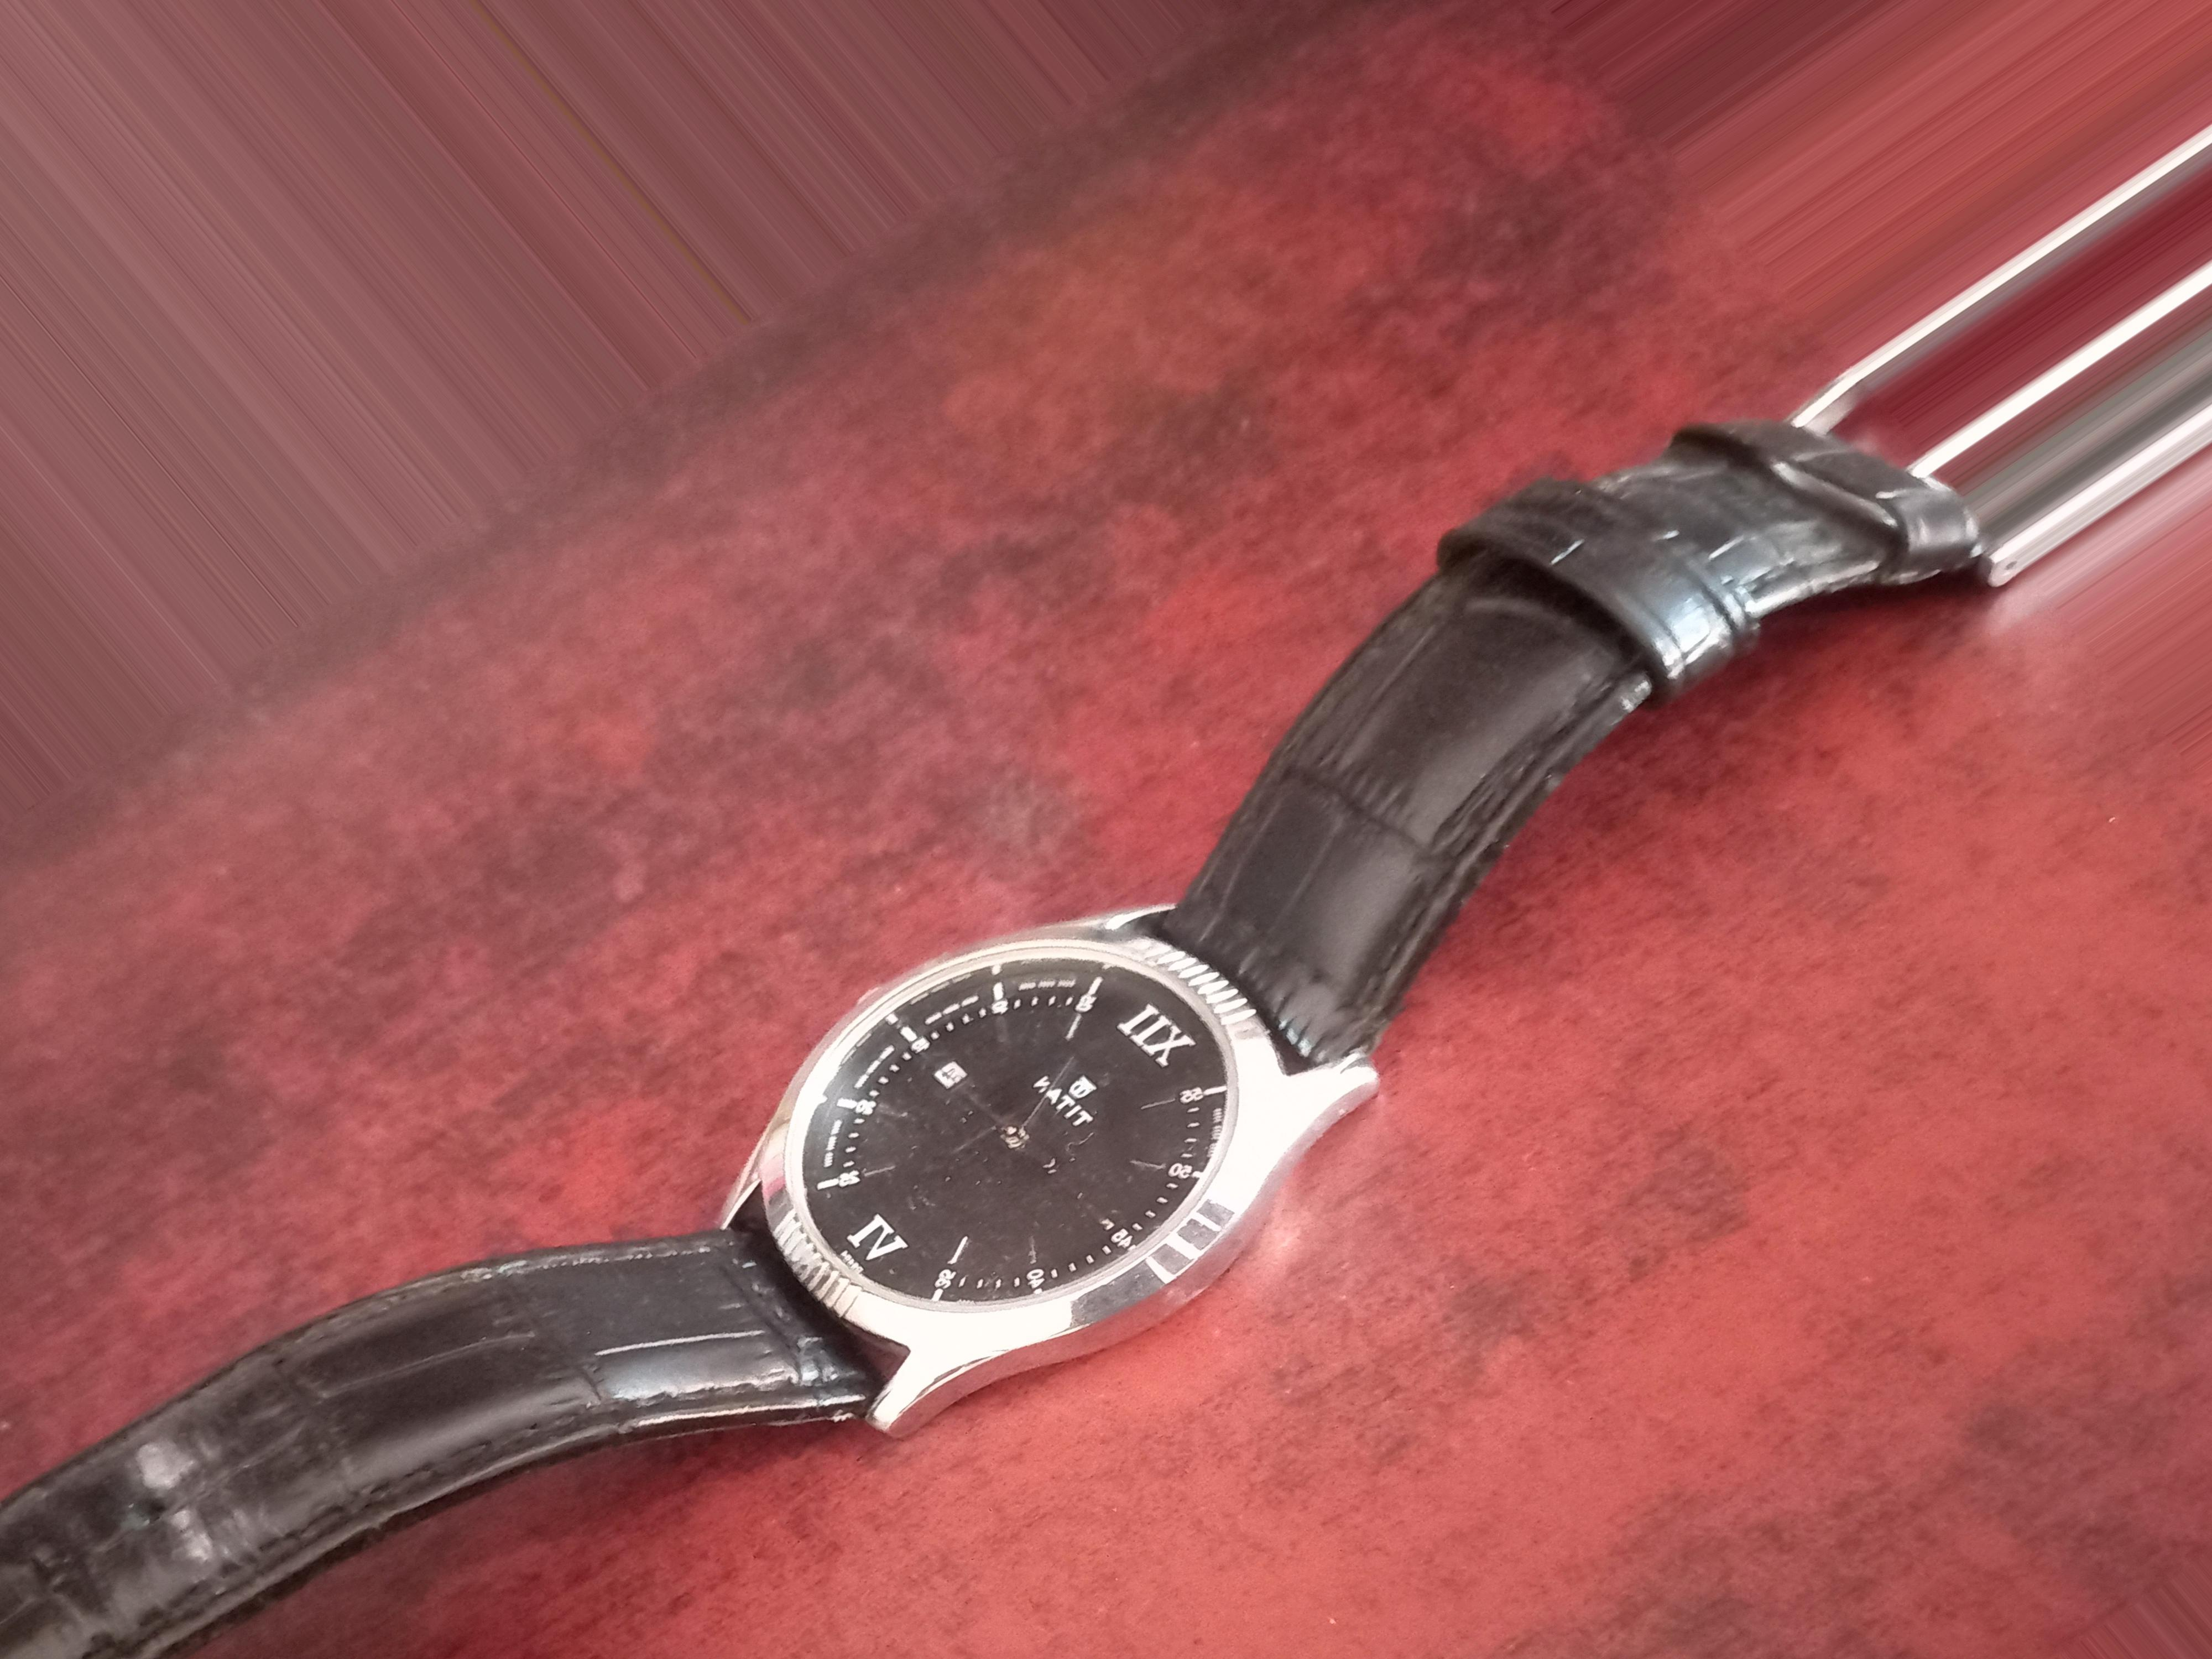watch: (0, 138, 2210, 1659)
